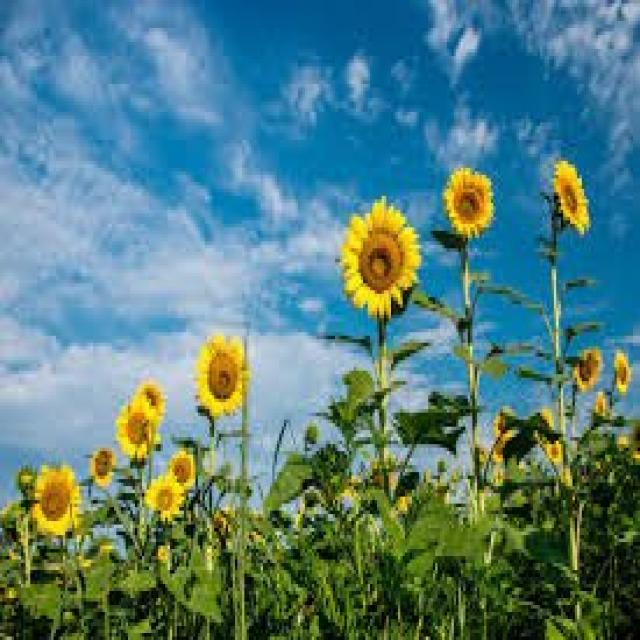sunflower: (332, 192, 423, 318), (194, 330, 252, 414), (550, 154, 594, 245), (441, 166, 495, 240), (34, 458, 80, 539), (112, 397, 158, 463), (142, 470, 181, 523), (136, 374, 164, 430), (570, 346, 605, 388), (90, 442, 118, 492), (613, 348, 634, 397), (169, 453, 194, 488)
